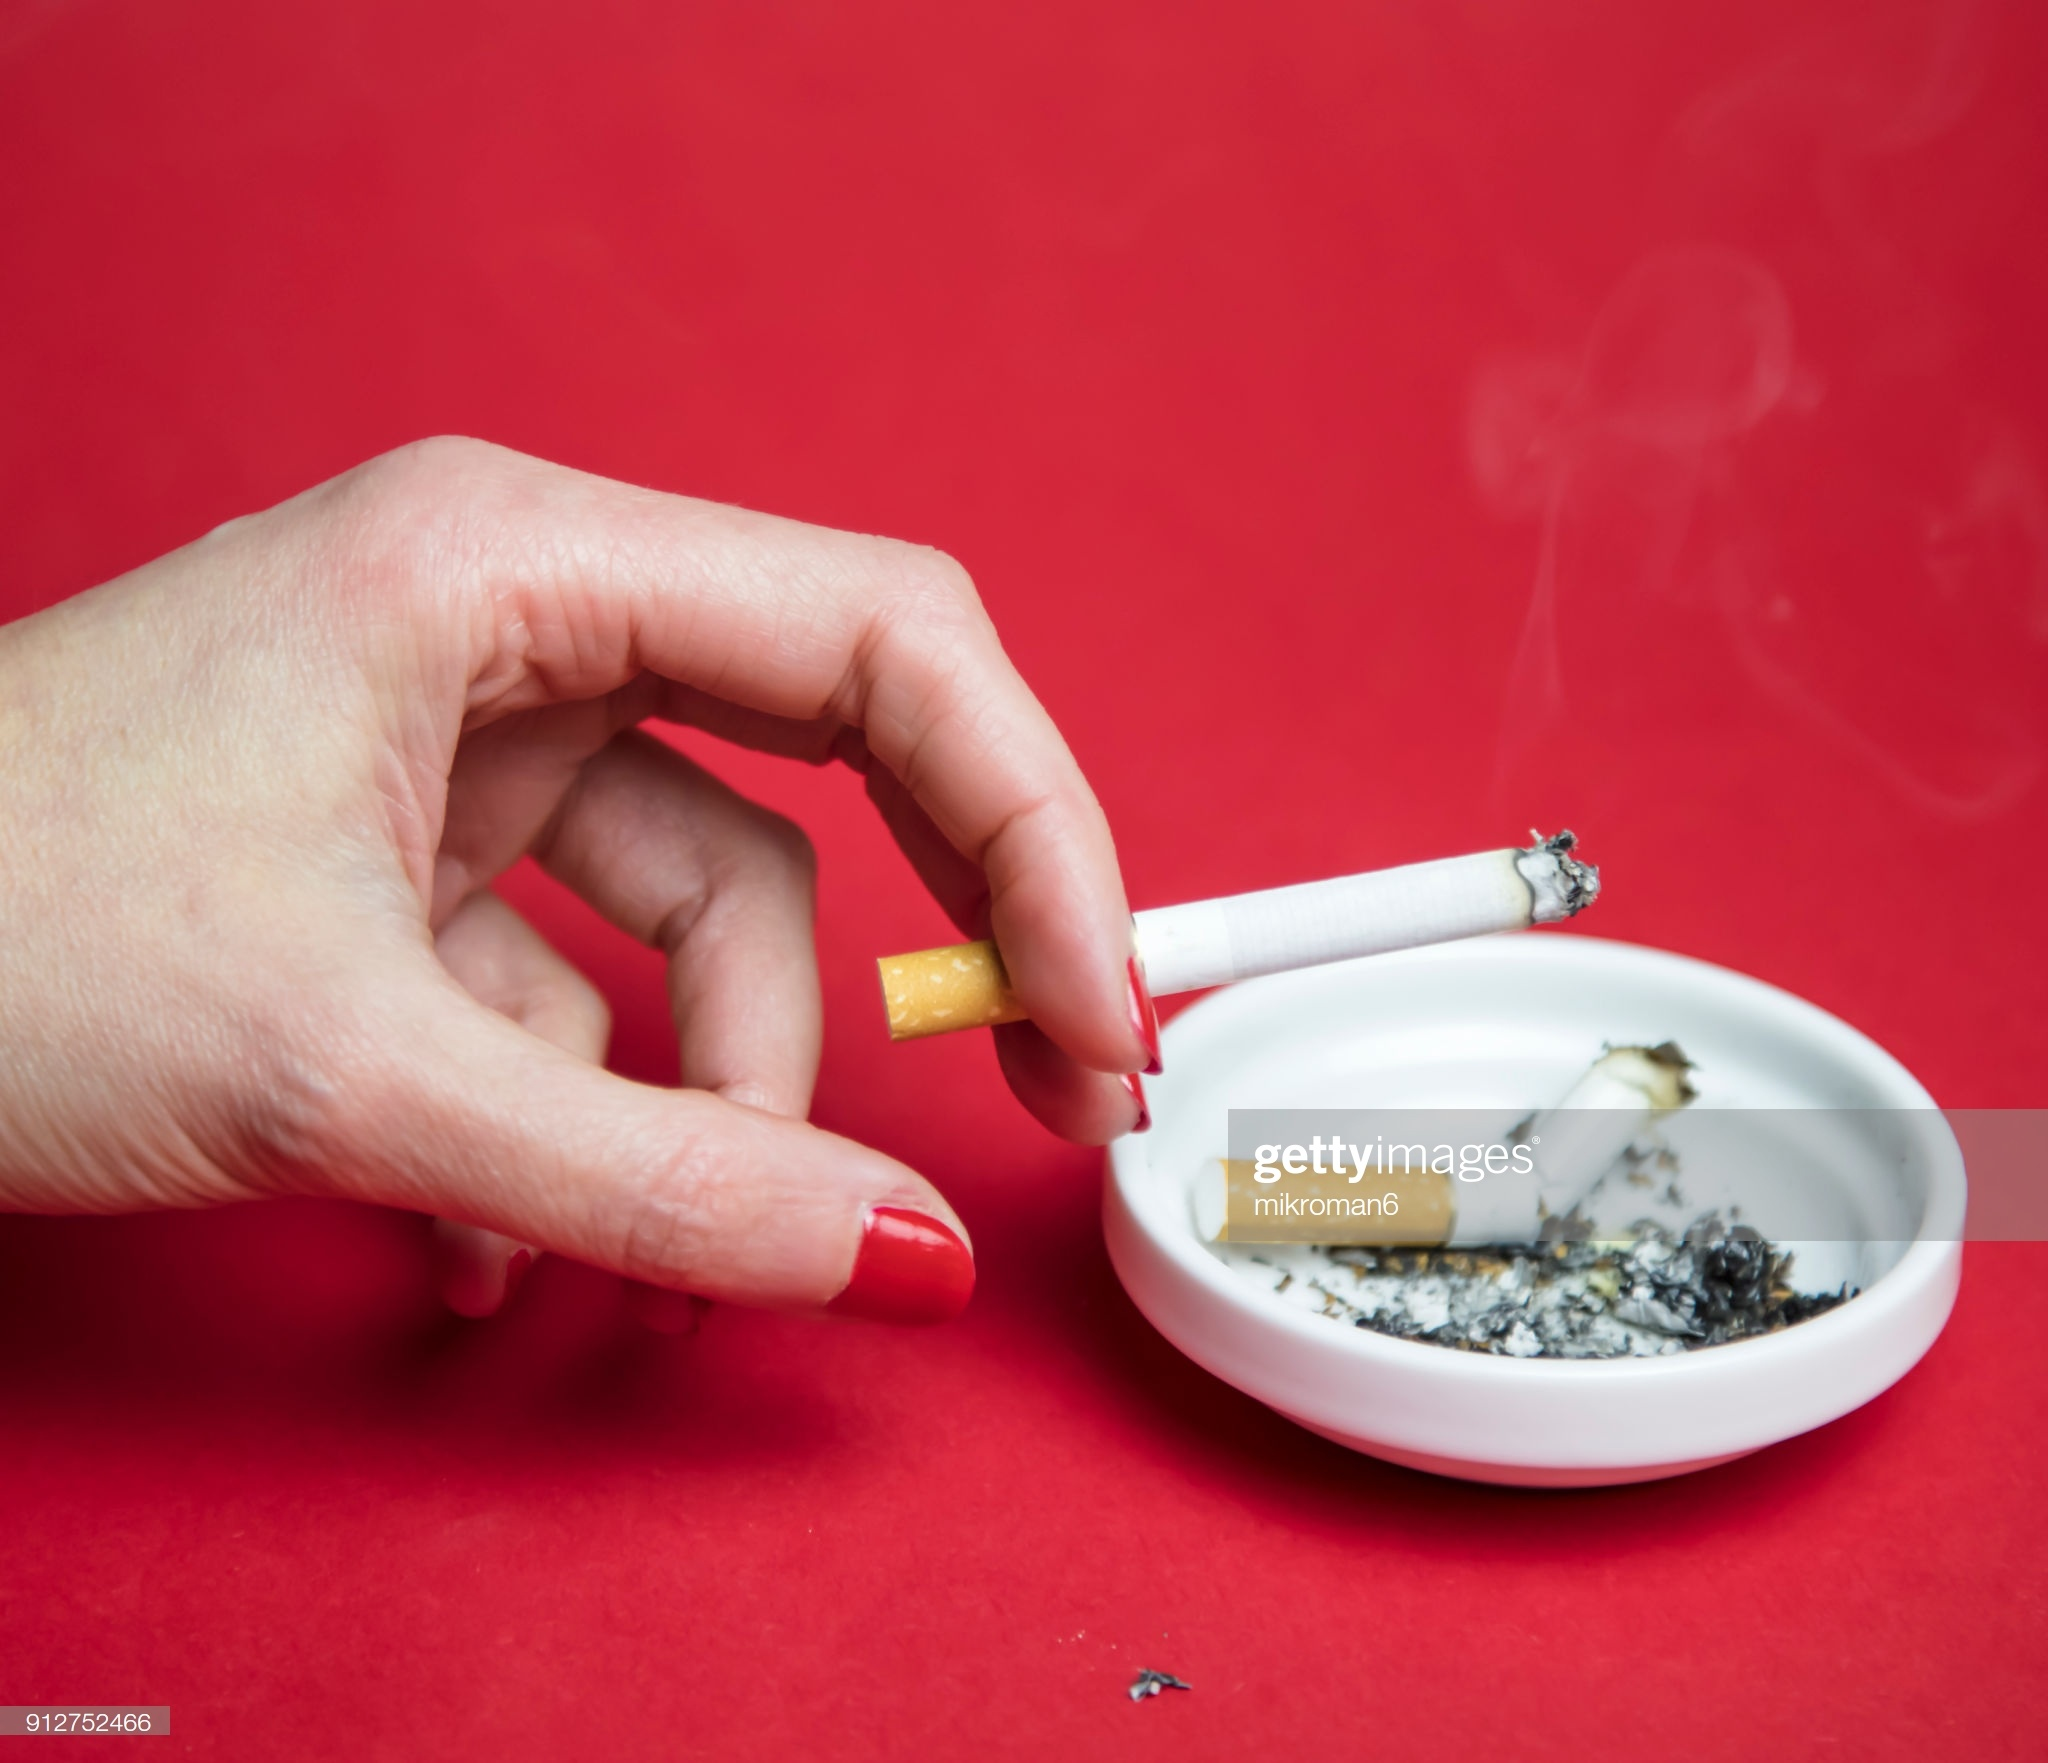sigaretta: (900, 814, 1566, 1050)
